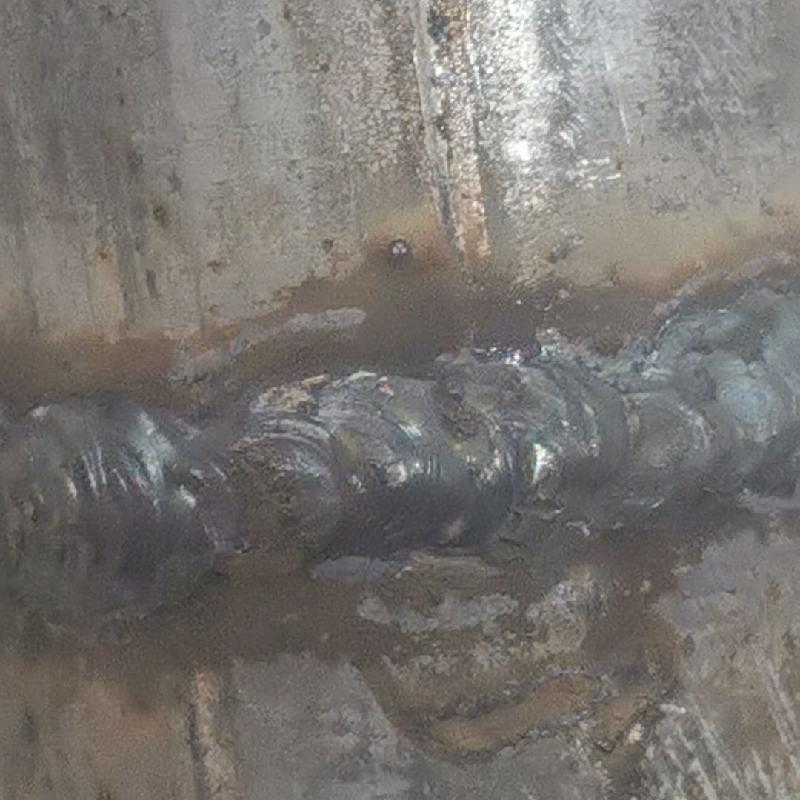good: (1, 359, 799, 581)
